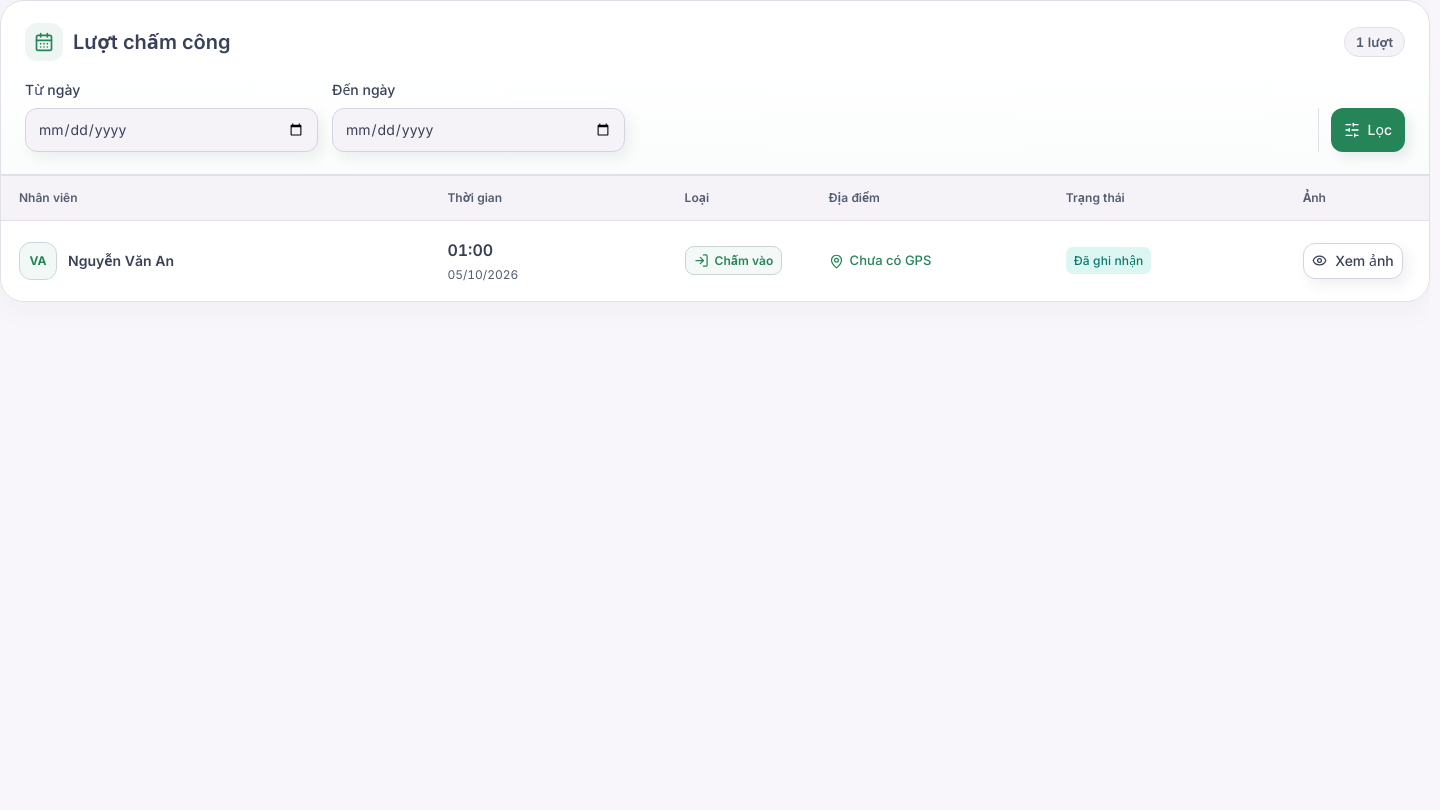
Test: attendance log photo viewing › opens the photo for a mocked attendance record
The image size is (1440, 810).
Click the button "Xem ảnh": (1353, 261) x1=1303 y1=243 x2=1403 y2=279
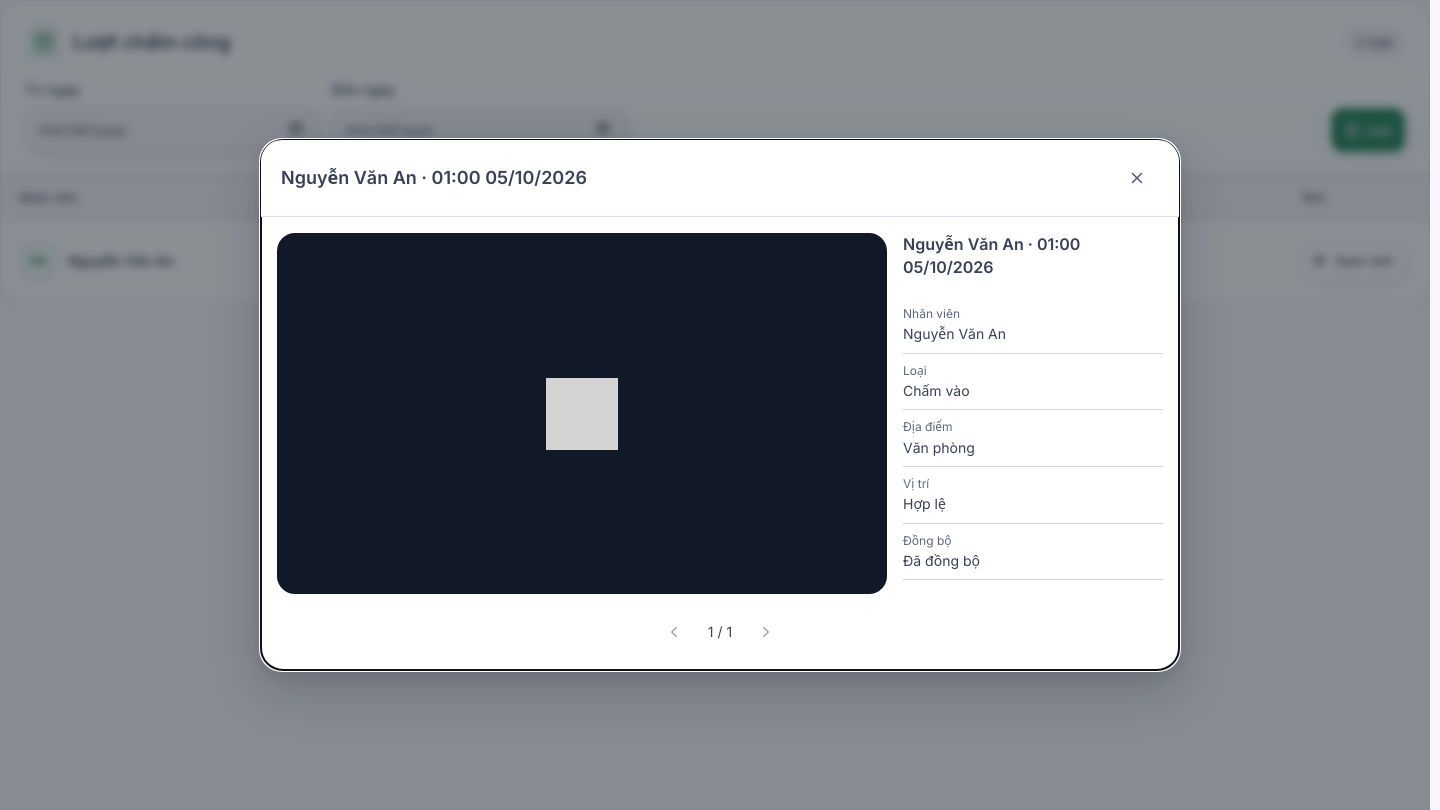
Expected: the text "Nguyễn Văn An" is shown, x1=903 y1=325 x2=1006 y2=342
